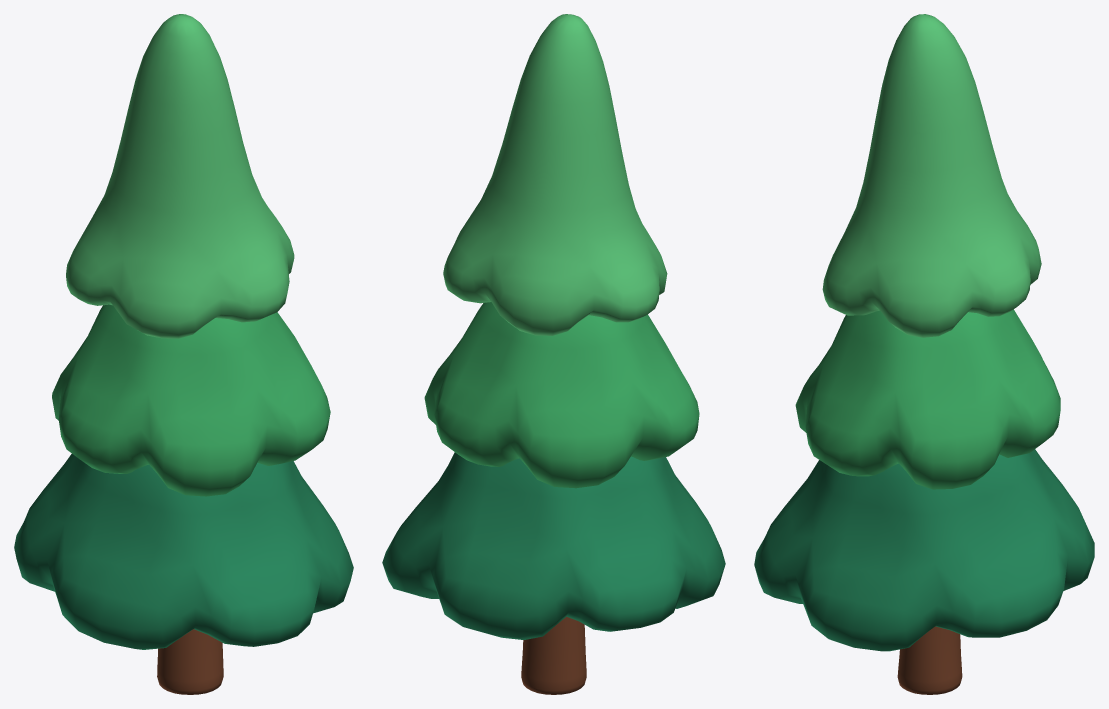
Rendered from Conifer_02.fbx.
3 renders of one model, left to right at view 1: azimuth 30°, elevation 25°; view 2: azimuth 150°, elevation 25°; view 3: azimuth 270°, elevation 25°, orthographic.
Visible parts, largest first — view 1: Conifer_02_LOD0; view 2: Conifer_02_LOD0; view 3: Conifer_02_LOD0.
Boxes of the visible parts, bbox=[...] form: Conifer_02_LOD0: bbox=[14, 14, 353, 694]; Conifer_02_LOD0: bbox=[382, 14, 725, 694]; Conifer_02_LOD0: bbox=[754, 14, 1094, 694].
Size of what is drawn, in the model's own units: 517 by 1178 by 548.
